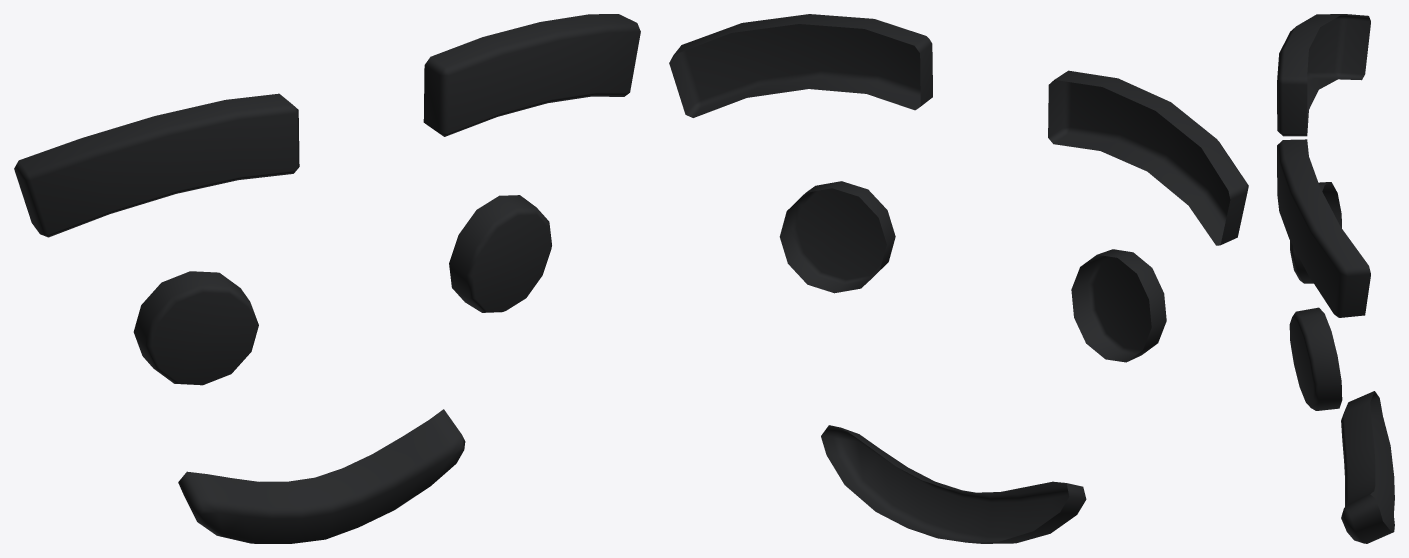
Rendered from Male_Emotion_Usual_01.glb.
3 views of the same model, side by side, from view 1: azimuth 30°, elevation 25°; view 2: azimuth 150°, elevation 25°; view 3: azimuth 270°, elevation 25° (orthographic). The views are drawn at different scales.
Parts seen in each view (by area): view 1: Male_Emotion_Usual_01; view 2: Male_Emotion_Usual_01; view 3: Male_Emotion_Usual_01.
Part boxes in pixels (x1,y1,x2,y2): Male_Emotion_Usual_01: (14,14,640,543); Male_Emotion_Usual_01: (669,14,1248,543); Male_Emotion_Usual_01: (1277,14,1394,543).
Size of the model in its own units: 0.2582 by 0.1982 by 0.0501.
1 material, 1 textured.
